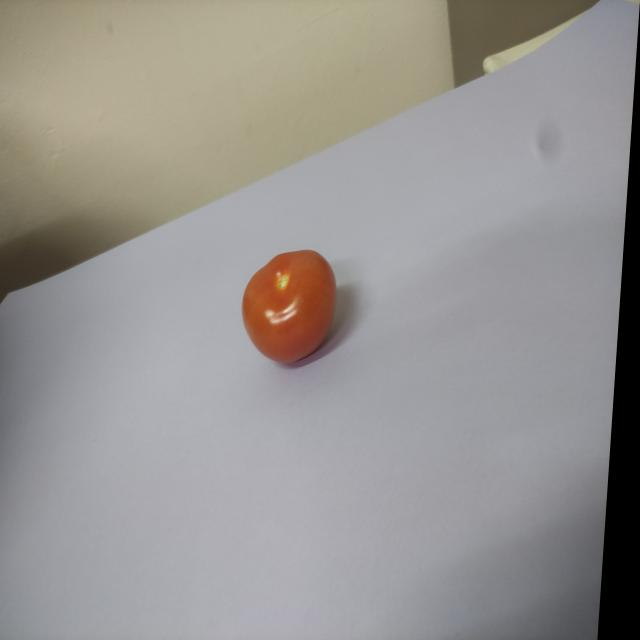sari: (230, 232, 355, 378)
